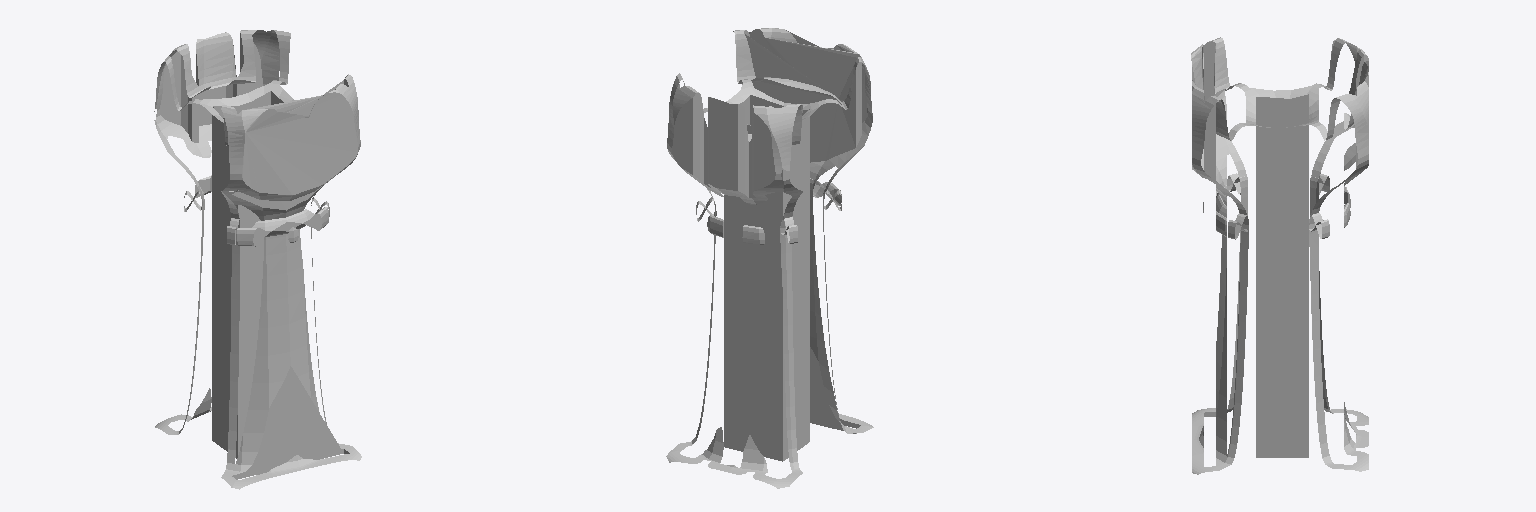
The model's file is rook.obj.
3 views of the same model, side by side, from view 1: azimuth 30°, elevation 25°; view 2: azimuth 150°, elevation 25°; view 3: azimuth 270°, elevation 25° (orthographic).
Parts seen in each view (by area): view 1: BezierCurve.034; view 2: BezierCurve.034; view 3: BezierCurve.034.
Boxes of the visible parts, box(x1,y1,x2,y2) form: BezierCurve.034: box(154, 30, 361, 489); BezierCurve.034: box(666, 28, 873, 488); BezierCurve.034: box(1191, 37, 1368, 474).
Size of the model in its own units: 0.3636 by 1 by 0.4279.